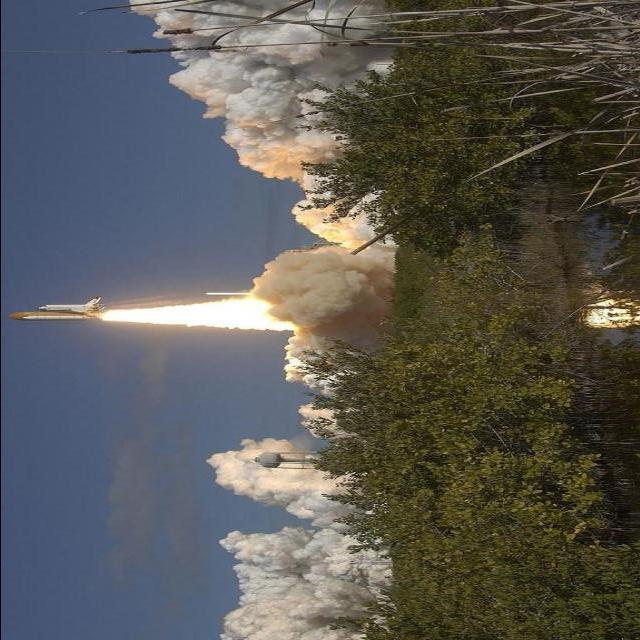missile: (10, 292, 120, 332)
